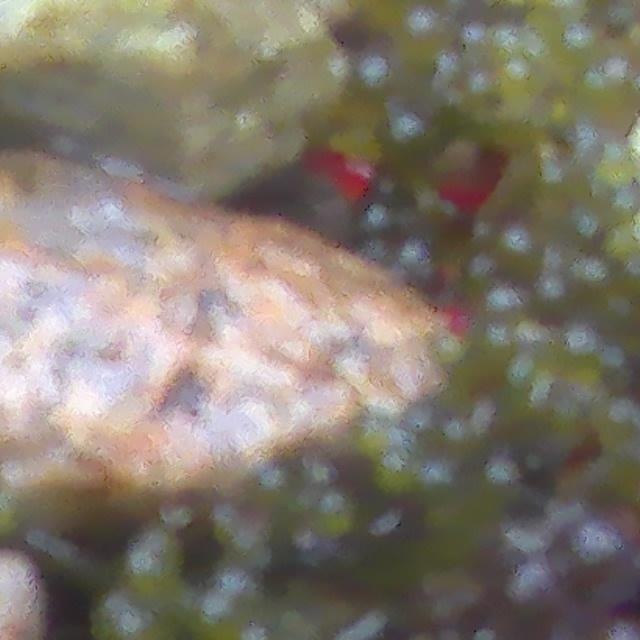SeaGrape: (548, 515, 640, 603), (379, 94, 451, 161), (506, 569, 572, 634), (496, 227, 543, 277)
